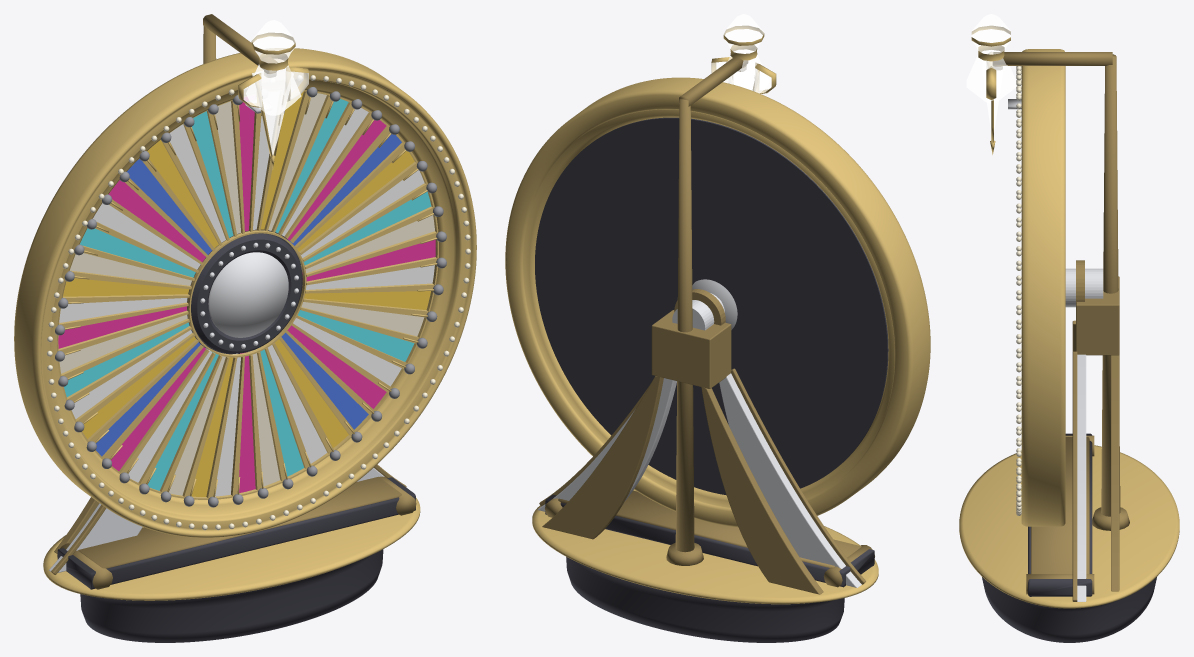
Rendered from SM_Wheel.fbx.
The picture shows the model from 3 angles, left to right: view 1: azimuth 30°, elevation 25°; view 2: azimuth 150°, elevation 25°; view 3: azimuth 270°, elevation 25°; orthographic projection. The views are drawn at different scales.
Visible parts, largest first — view 1: Wheel_Rim, Wheel_Spokes, Wheel_BasePlate, Wheel_CrossBar, Wheel_Pegs, Wheel_Hub, Wheel_HubRing, Crest_Crystal, Wheel_Bulbs, Wheel_Legs, Pointer_Flapper, Wheel_Sector_19 (+49 smaller); view 2: Wheel_BackPlate, Wheel_Rim, Wheel_Legs, Wheel_BasePlate, Crest_Stalk, Wheel_CrossBar, Crest_Crystal, Wheel_Axle, Wheel_Hub, Crest_Chevron; view 3: Wheel_BasePlate, Wheel_Rim, Wheel_Legs, Crest_Stalk, Wheel_CrossBar, Crest_Crystal, Wheel_Bulbs, Wheel_Axle, Pointer_Flapper, Crest_Chevron.
Part boxes in pixels (left/top/right/bottom): Wheel_Rim: left=14, top=48, right=476, bottom=537; Wheel_Spokes: left=57, top=90, right=438, bottom=499; Wheel_BasePlate: left=43, top=498, right=420, bottom=642; Wheel_CrossBar: left=57, top=476, right=416, bottom=589; Wheel_Pegs: left=55, top=87, right=446, bottom=507; Wheel_Hub: left=208, top=252, right=288, bottom=337; Wheel_HubRing: left=187, top=233, right=302, bottom=353; Crest_Crystal: left=246, top=20, right=301, bottom=115; Wheel_Bulbs: left=47, top=75, right=470, bottom=530; Wheel_Legs: left=49, top=464, right=406, bottom=574; Pointer_Flapper: left=245, top=68, right=293, bottom=169; Wheel_Sector_19: left=287, top=325, right=386, bottom=408; Wheel_BackPlate: left=535, top=117, right=888, bottom=494; Wheel_Rim: left=505, top=77, right=930, bottom=526; Wheel_Legs: left=537, top=310, right=865, bottom=594; Wheel_BasePlate: left=532, top=489, right=878, bottom=642; Crest_Stalk: left=666, top=53, right=748, bottom=565; Wheel_CrossBar: left=545, top=490, right=874, bottom=587; Crest_Crystal: left=723, top=14, right=768, bottom=92; Wheel_Axle: left=672, top=289, right=725, bottom=330; Wheel_Hub: left=692, top=279, right=737, bottom=329; Crest_Chevron: left=711, top=57, right=776, bottom=93; Wheel_BasePlate: left=959, top=445, right=1179, bottom=642; Wheel_Rim: left=1021, top=49, right=1065, bottom=526; Wheel_Legs: left=1072, top=276, right=1119, bottom=601; Crest_Stalk: left=992, top=52, right=1129, bottom=530; Wheel_CrossBar: left=1026, top=433, right=1094, bottom=596; Crest_Crystal: left=966, top=14, right=1016, bottom=102; Wheel_Bulbs: left=1016, top=66, right=1021, bottom=515; Wheel_Axle: left=1065, top=260, right=1103, bottom=307; Pointer_Flapper: left=982, top=60, right=1021, bottom=154; Crest_Chevron: left=986, top=52, right=996, bottom=99.
Size of the model in its own units: 5.2 by 6.79 by 2.4.
